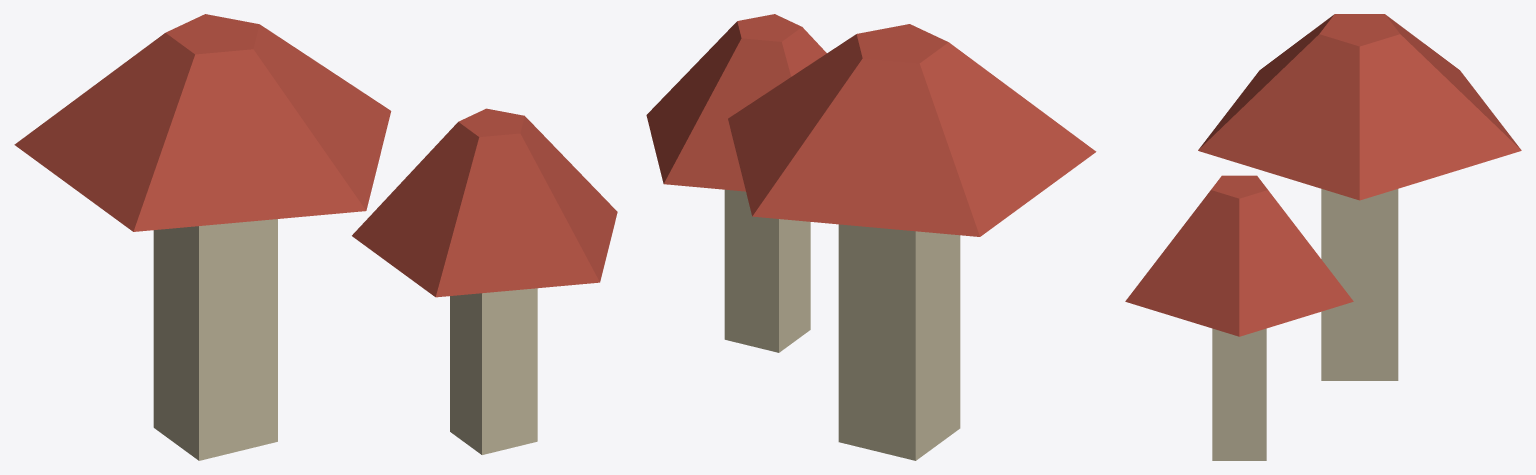
Rendered from prop_mushrooms.glb.
The picture shows the model from 3 angles, left to right: view 1: azimuth 30°, elevation 25°; view 2: azimuth 150°, elevation 25°; view 3: azimuth 270°, elevation 25°; orthographic projection. The views are drawn at different scales.
Parts seen in each view (by area): view 1: prop_mushrooms; view 2: prop_mushrooms; view 3: prop_mushrooms.
Part boxes in pixels (bbox=[...]): prop_mushrooms: bbox=[14, 14, 617, 460]; prop_mushrooms: bbox=[646, 14, 1096, 460]; prop_mushrooms: bbox=[1125, 14, 1521, 460].
Size of the model in its own units: 0.2288 by 0.185 by 0.1979.
